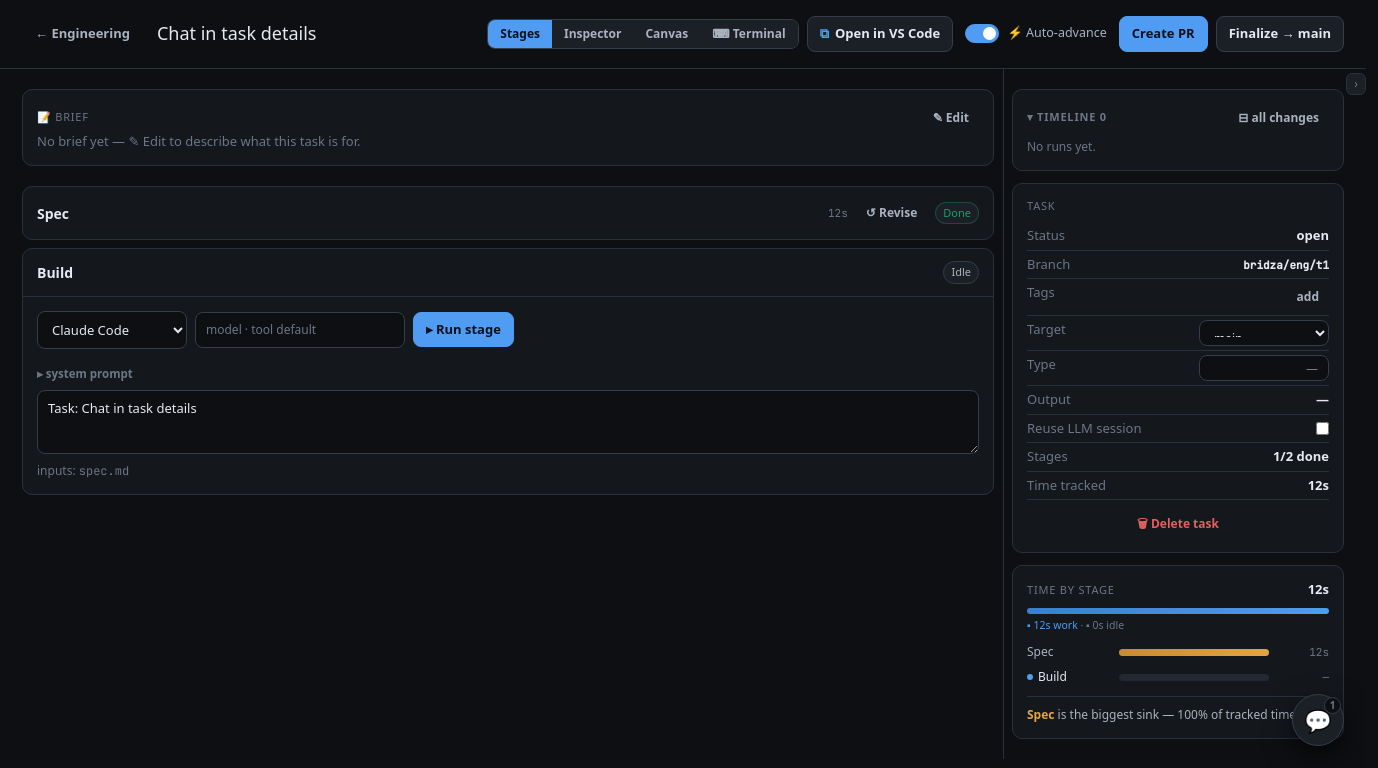
Scenario: a finished conversation is there on the next load › renders the stored turns with their answer and files
Click the button with class "chat-bubble" at (1318, 720), box x1=1292 y1=694 x2=1344 y2=746
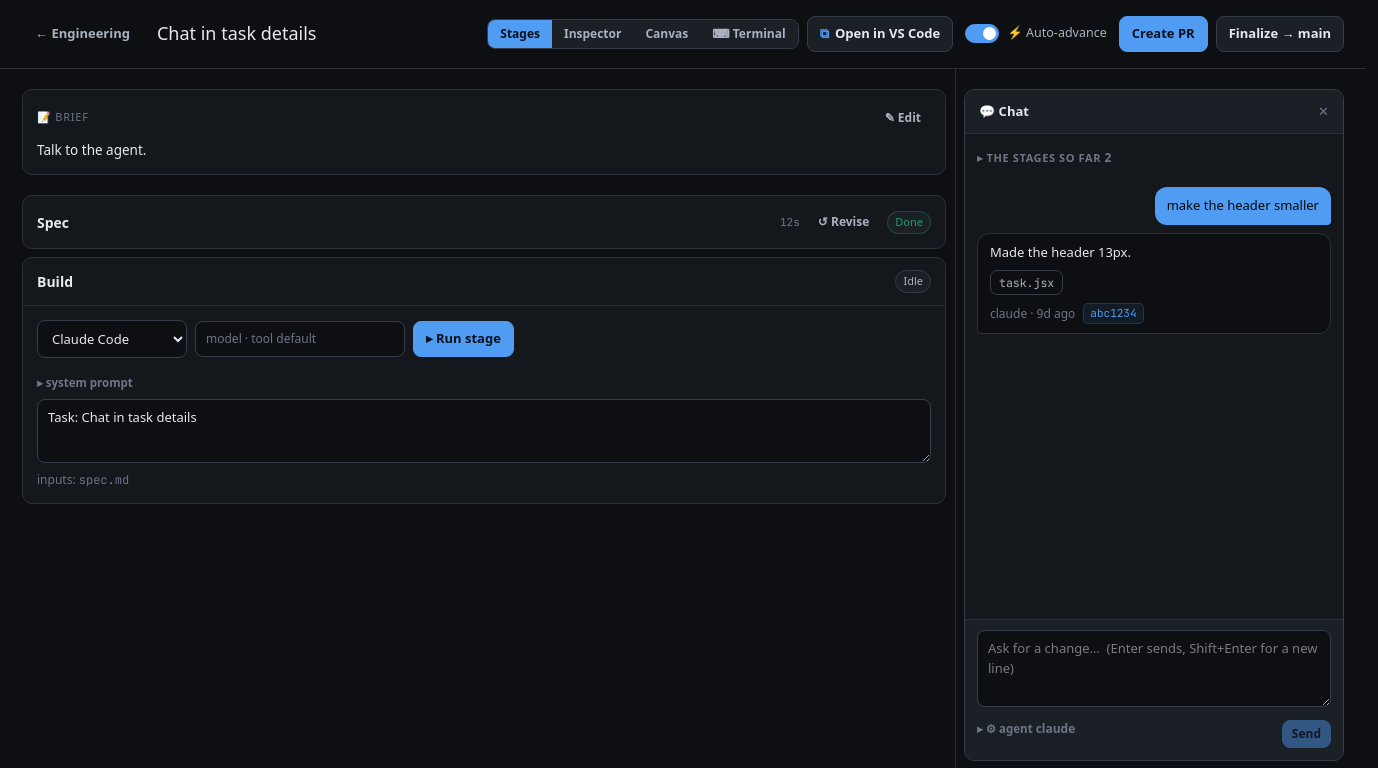
Expected: the text with class "you" reads "make the header smaller", x1=1167 y1=196 x2=1319 y2=214
Expected: the text with class "chat-answer" reads "Made the header 13px.", x1=990 y1=242 x2=1131 y2=260
Expected: the text with class "uxv-fn" reads "task.jsx", x1=999 y1=275 x2=1054 y2=290
